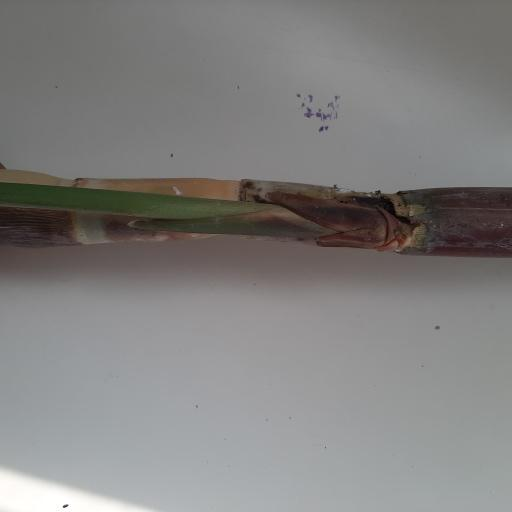Sprouted_Bud: (297, 212, 390, 246)
